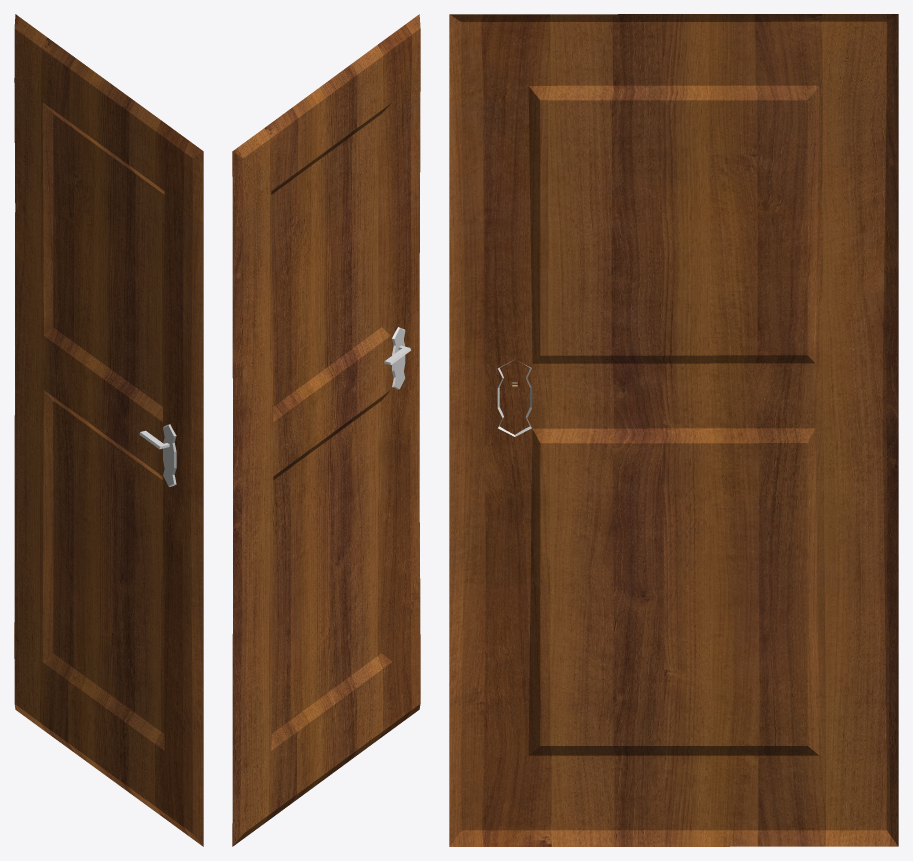
File: buergerstube_door.fbx
3 views of the same model, side by side, from view 1: azimuth 30°, elevation 25°; view 2: azimuth 150°, elevation 25°; view 3: azimuth 270°, elevation 25° (orthographic). The views are drawn at different scales.
Parts seen in each view (by area): view 1: bürgerstube_walls.001, Cube; view 2: bürgerstube_walls.001, Cube; view 3: bürgerstube_walls.001.
Part boxes in pixels (box(x1,y1,x2,y2)): bürgerstube_walls.001: box(14, 14, 203, 846); Cube: box(139, 424, 176, 486); bürgerstube_walls.001: box(232, 14, 420, 846); Cube: box(384, 327, 410, 389); bürgerstube_walls.001: box(449, 14, 898, 846).
Size of the model in its own units: 4.93 by 184 by 89.95.
